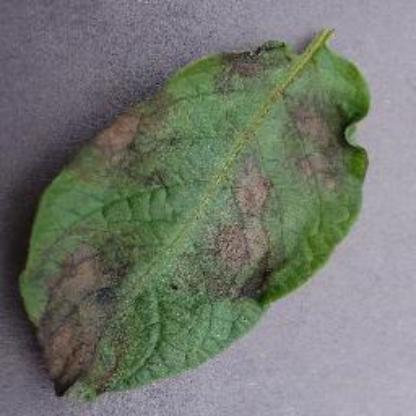Late-Blight: (14, 19, 384, 406)
